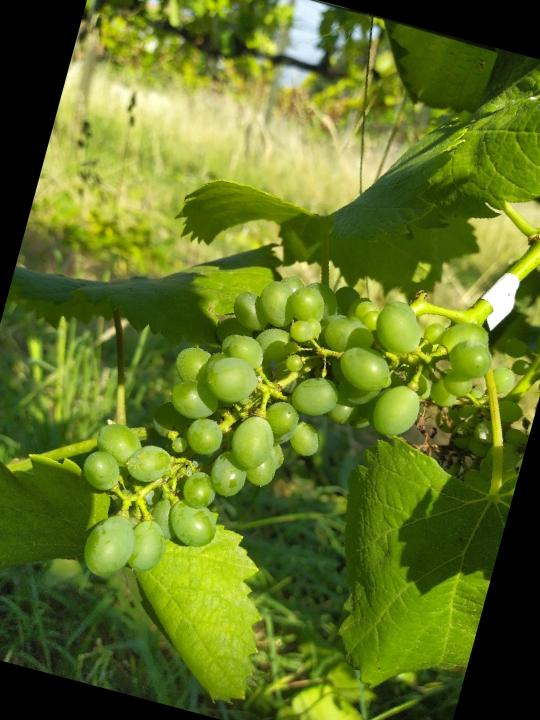grape: (49, 222, 510, 672)
